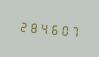eight: (27, 18, 36, 35)
four: (38, 19, 47, 36)
seven: (68, 21, 77, 39)
six: (48, 19, 57, 37)
two: (17, 17, 26, 34)
zero: (58, 20, 67, 38)
